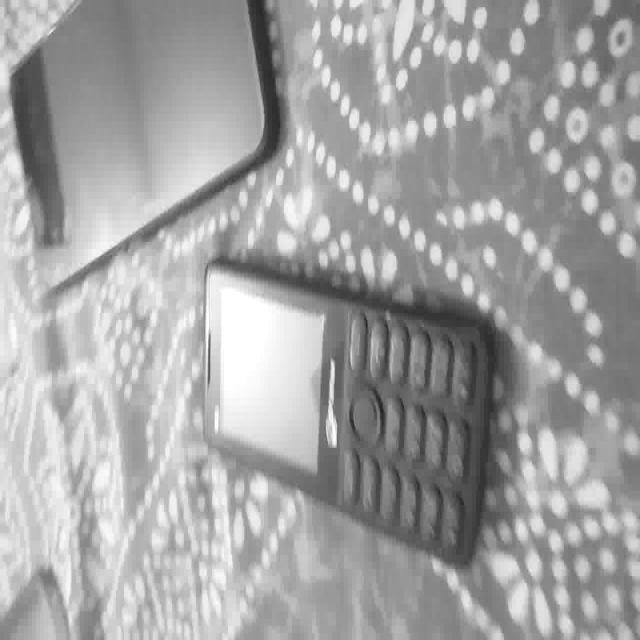fake: (200, 255, 494, 573), (6, 0, 280, 244)
